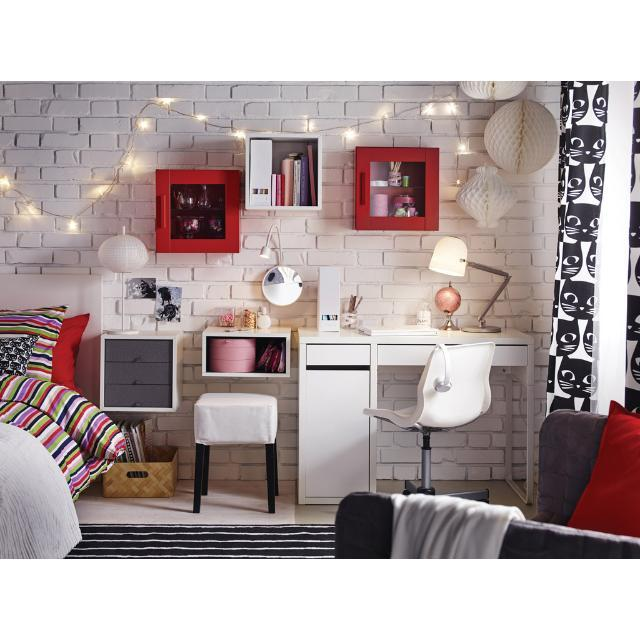armchair: (335, 411, 640, 559)
bed: (0, 275, 125, 558)
chair: (364, 342, 495, 496), (450, 490, 489, 503)
curtain: (546, 81, 608, 413), (625, 81, 640, 413)
lamp: (429, 238, 510, 333)
pillow: (568, 401, 640, 538)
rug: (66, 525, 335, 558)
stool: (194, 394, 279, 513)
table: (298, 328, 534, 505)
